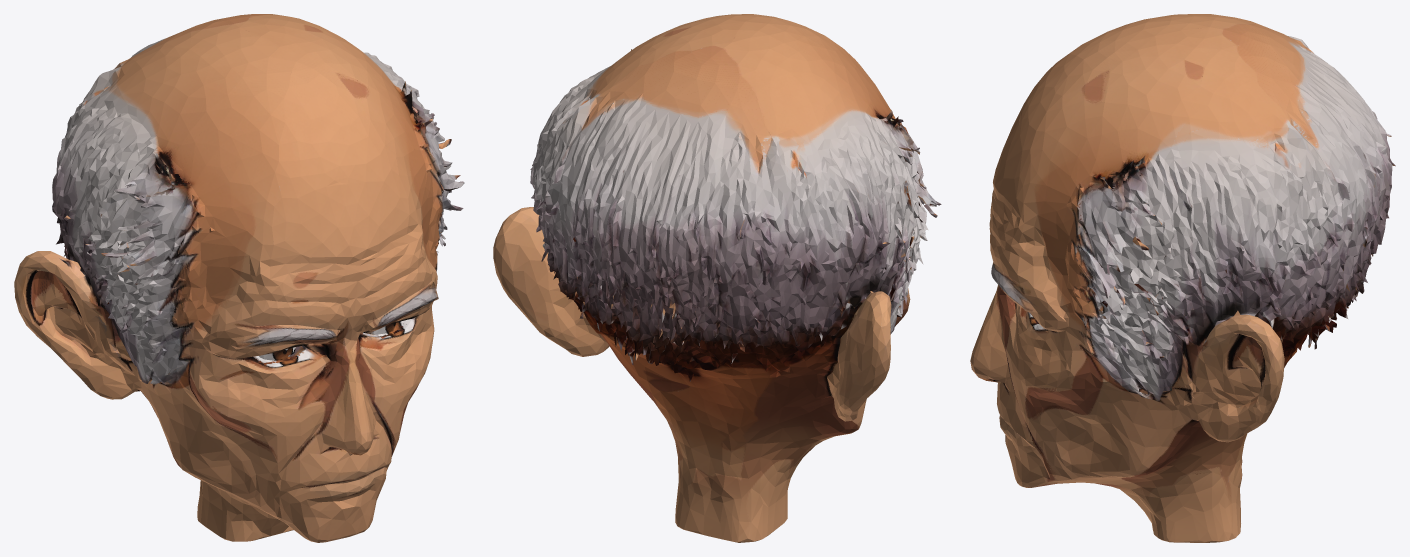
The model's file is side_akuro_repaired_atlas.glb.
The picture shows the model from 3 angles, left to right: view 1: azimuth 30°, elevation 25°; view 2: azimuth 150°, elevation 25°; view 3: azimuth 270°, elevation 25°; orthographic projection.
Visible parts, largest first — view 1: temp_mesh.ply; view 2: temp_mesh.ply; view 3: temp_mesh.ply.
Boxes of the visible parts, box(x1,y1,x2,y2) form: temp_mesh.ply: box(14, 14, 464, 542); temp_mesh.ply: box(493, 14, 941, 542); temp_mesh.ply: box(970, 14, 1395, 542).
Bounding box in the file's own units: 1.68 × 1.97 × 1.55.
Materials: 1 (1 with a texture image).
